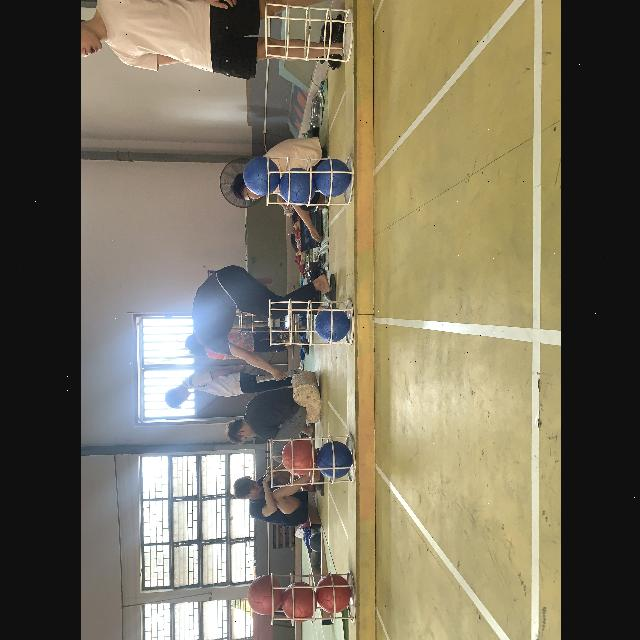B: (278, 167, 314, 205), (242, 157, 278, 195), (316, 442, 352, 478), (314, 158, 348, 196), (313, 308, 347, 342)
R: (282, 581, 316, 623), (314, 576, 350, 614), (247, 575, 281, 615), (280, 440, 314, 474)
